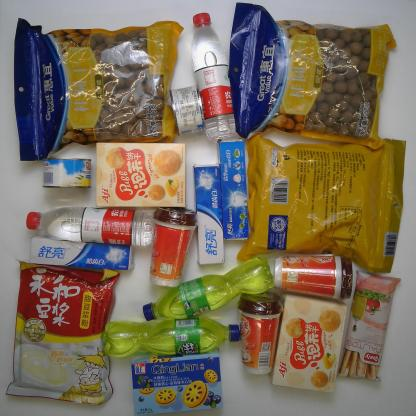Canned Food: (168, 83, 205, 137), (41, 157, 93, 189)
Dessert: (269, 290, 348, 395), (336, 269, 401, 383), (130, 346, 224, 416), (95, 142, 187, 208)
Dried Food: (228, 0, 397, 150), (13, 16, 185, 162), (238, 130, 407, 274)
Drink: (141, 256, 275, 322), (190, 12, 240, 141), (100, 317, 241, 358), (24, 206, 157, 248)
Instant Drink: (5, 258, 121, 406), (235, 290, 285, 376), (149, 206, 199, 288), (274, 252, 354, 300)
Personal Hygiene: (28, 232, 135, 272), (217, 138, 249, 242), (193, 162, 224, 266)
